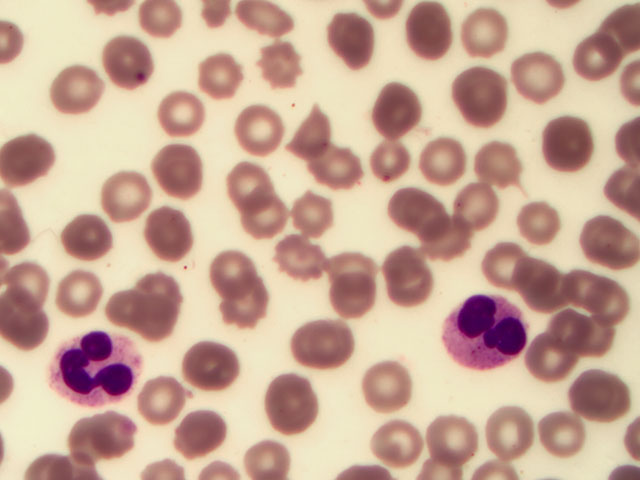RBC: (53, 62, 106, 115), (97, 35, 150, 88), (193, 50, 246, 103), (247, 41, 300, 94), (325, 15, 378, 68), (392, 5, 445, 58), (452, 5, 505, 58), (457, 72, 510, 125), (504, 54, 557, 107), (569, 37, 622, 90), (538, 113, 591, 166), (368, 81, 421, 134), (359, 129, 412, 182), (418, 128, 471, 181), (466, 136, 519, 189), (452, 178, 505, 231), (420, 209, 473, 262), (394, 194, 447, 247), (285, 189, 338, 242), (313, 134, 366, 187), (289, 106, 342, 159), (236, 105, 289, 158), (155, 91, 208, 144), (151, 144, 204, 197), (106, 167, 159, 220), (58, 202, 111, 255), (1, 136, 54, 189), (10, 254, 63, 307), (57, 265, 110, 318), (94, 277, 147, 330), (147, 258, 200, 311), (137, 291, 190, 344), (205, 240, 258, 293), (222, 283, 275, 336), (274, 237, 327, 290), (240, 198, 293, 251), (214, 159, 267, 212), (325, 230, 378, 283), (324, 269, 377, 322), (374, 246, 427, 299), (467, 238, 520, 291), (509, 255, 562, 308), (512, 200, 565, 253), (581, 205, 634, 258), (553, 258, 606, 311), (569, 273, 622, 326), (548, 302, 601, 355), (572, 309, 625, 362), (535, 333, 588, 386), (579, 368, 632, 421), (535, 405, 588, 458), (482, 402, 535, 455), (424, 409, 477, 462), (369, 417, 422, 470), (362, 363, 415, 416), (300, 319, 353, 372), (267, 373, 320, 426), (176, 400, 229, 453), (144, 376, 197, 429), (184, 335, 237, 388), (88, 410, 141, 463), (244, 427, 297, 480), (135, 1, 188, 53), (245, 1, 298, 53)
WBC: (53, 331, 135, 409), (441, 295, 527, 369)
